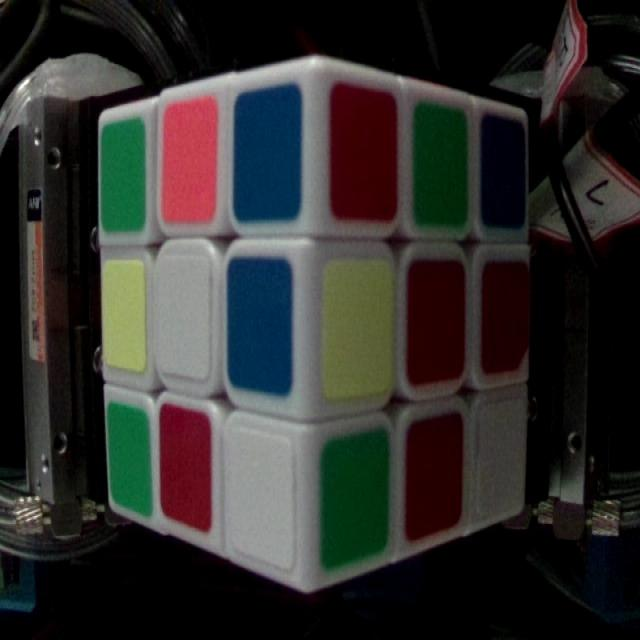b: (233, 86, 300, 212), (232, 262, 290, 382), (482, 115, 528, 227)
g: (320, 430, 386, 560), (415, 101, 466, 222), (107, 405, 150, 512), (101, 117, 142, 227)
o: (163, 102, 216, 216)
r: (327, 86, 398, 218), (162, 406, 211, 528), (407, 422, 463, 528), (410, 262, 462, 376), (484, 264, 528, 376)
w: (229, 430, 297, 561), (159, 254, 213, 370), (479, 406, 524, 504)
y: (321, 259, 391, 386), (104, 260, 142, 366)
